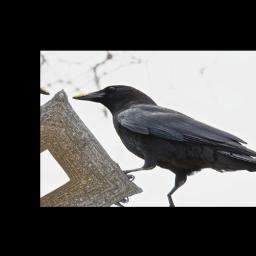Crow: (51, 78, 256, 206)
